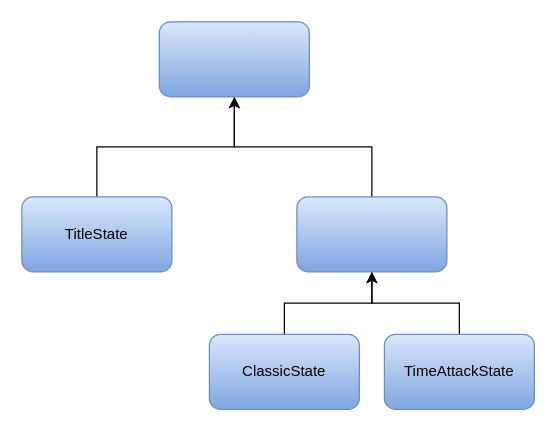
This 556x431 diagram has some shape labels left out. Here are the shapes that lost their labels. From the top down, the centre of each, then its label:
At [233,59]: "JSONLevelState".
At [371,234]: "LevelState".
